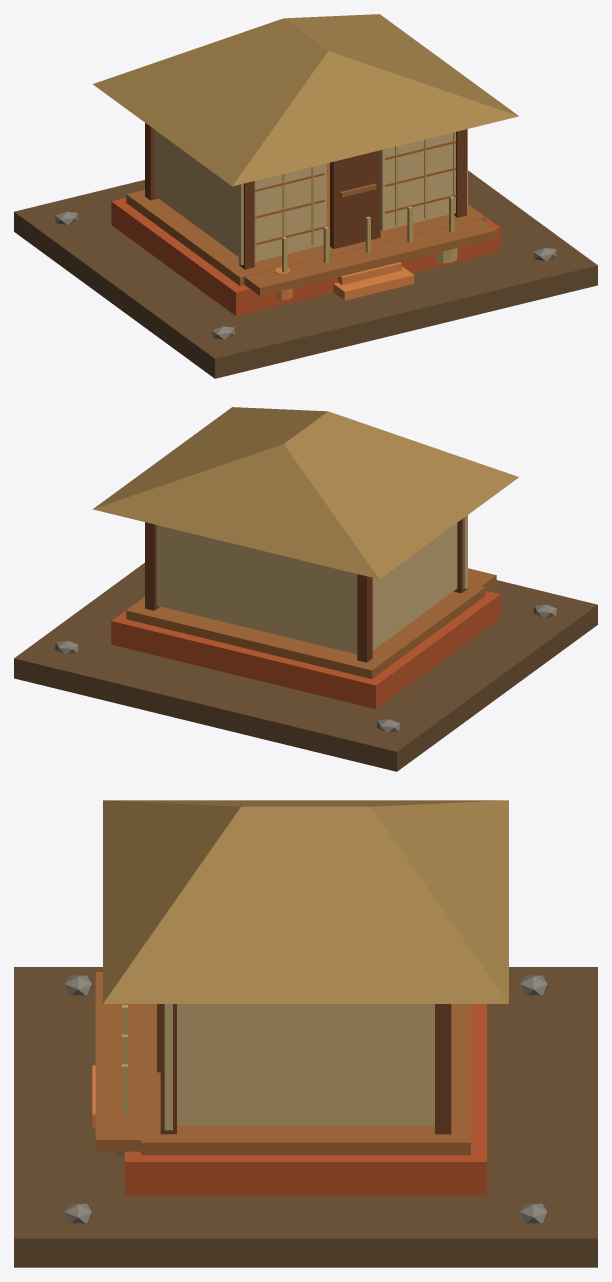
The model's file is resident_bamboo_house.glb.
3 views of the same model, one above another, from view 1: azimuth 30°, elevation 25°; view 2: azimuth 150°, elevation 25°; view 3: azimuth 270°, elevation 25° (orthographic). The views are drawn at different scales.
Parts seen in each view (by area): view 1: ResidentRoof, Building_Base, ResidentPlatform, ResidentSideWall, ResidentFloor, ResidentPorch, ResidentFrontPanel, ResidentFrontPanel.001, ResidentDoor, BrickStep, ResidentPost, ResidentPost.002 (+2 smaller); view 2: ResidentRoof, Building_Base, ResidentRearPanel, ResidentPlatform, ResidentFloor, ResidentSideWall, ResidentPost.001, ResidentPost.003; view 3: Building_Base, ResidentRoof, ResidentSideWall.001, ResidentPlatform, ResidentFloor, ResidentPorch, ResidentPost.003, ResidentPost.002, ResidentFrontPanel.001.
Part boxes in pixels (bbox=[...]): ResidentRoof: bbox=[93, 14, 518, 186]; Building_Base: bbox=[14, 170, 597, 378]; ResidentPlatform: bbox=[111, 198, 500, 315]; ResidentSideWall: bbox=[154, 130, 238, 256]; ResidentFloor: bbox=[126, 162, 485, 285]; ResidentPorch: bbox=[244, 219, 496, 295]; ResidentFrontPanel: bbox=[238, 163, 326, 265]; ResidentFrontPanel.001: bbox=[380, 129, 467, 230]; ResidentDoor: bbox=[330, 150, 380, 248]; BrickStep: bbox=[333, 267, 414, 300]; ResidentPost: bbox=[239, 181, 254, 269]; ResidentPost.002: bbox=[454, 129, 466, 217]; ResidentRoof: bbox=[93, 407, 518, 579]; Building_Base: bbox=[14, 563, 597, 771]; ResidentRearPanel: bbox=[156, 525, 357, 654]; ResidentPlatform: bbox=[111, 591, 500, 708]; ResidentFloor: bbox=[126, 583, 485, 678]; ResidentSideWall: bbox=[372, 523, 457, 650]; ResidentPost.001: bbox=[357, 574, 372, 662]; ResidentPost.003: bbox=[145, 522, 159, 610]; Building_Base: bbox=[14, 967, 597, 1267]; ResidentRoof: bbox=[103, 800, 508, 1003]; ResidentSideWall.001: bbox=[177, 1004, 434, 1125]; ResidentPlatform: bbox=[125, 1004, 486, 1196]; ResidentFloor: bbox=[141, 1004, 470, 1155]; ResidentPorch: bbox=[95, 972, 140, 1151]; ResidentPost.003: bbox=[435, 1004, 451, 1134]; ResidentPost.002: bbox=[160, 1004, 176, 1134]; ResidentFrontPanel.001: bbox=[164, 1004, 172, 1130].
Size of the model in its own units: 11 by 6.15 by 10.
